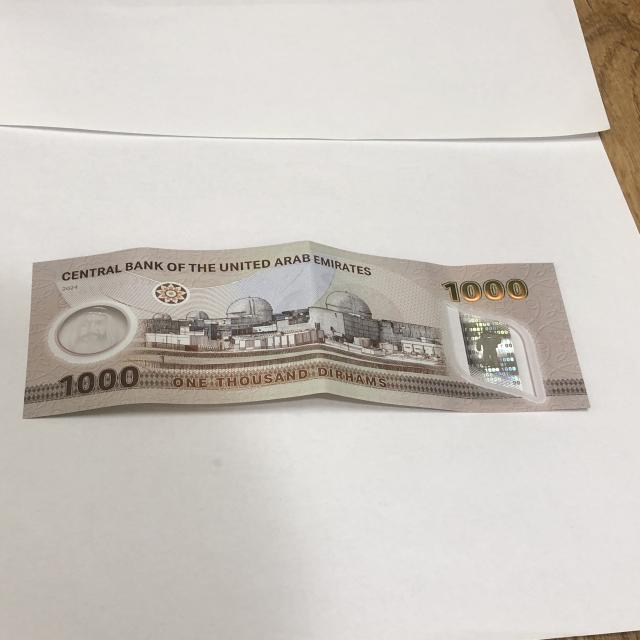1000_AED: (19, 236, 599, 424)
